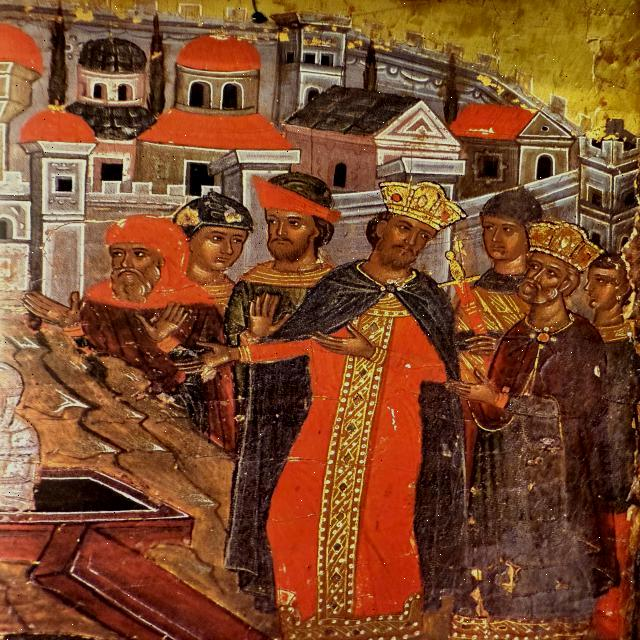crown: (375, 182, 469, 232), (522, 222, 610, 267)
